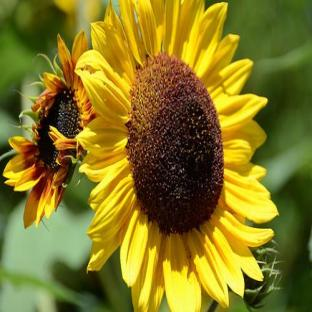sunflower: (76, 0, 280, 312)
